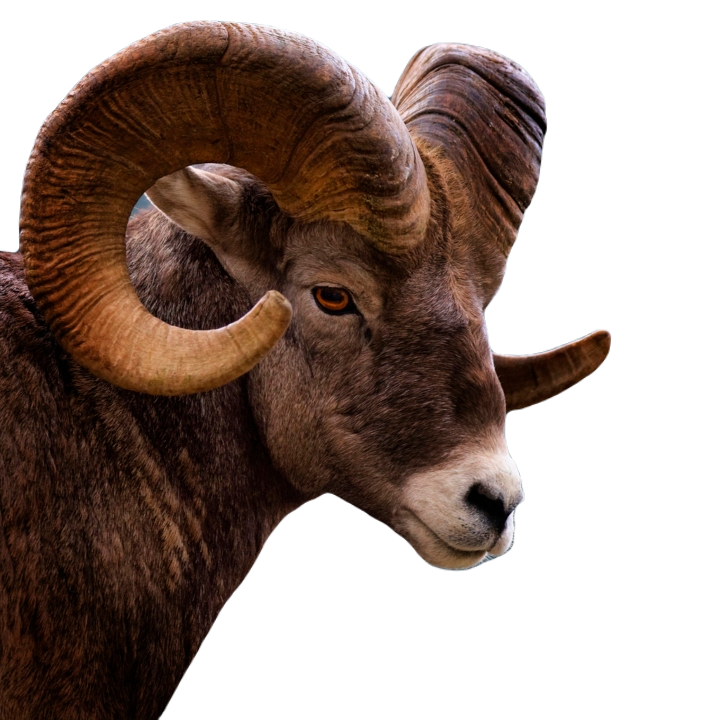Sheep: (0, 17, 613, 719)
